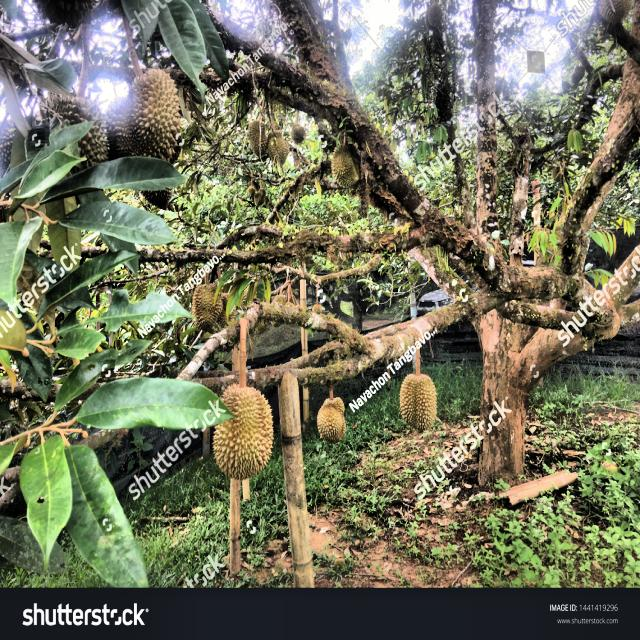arvore: (453, 162, 551, 519)
